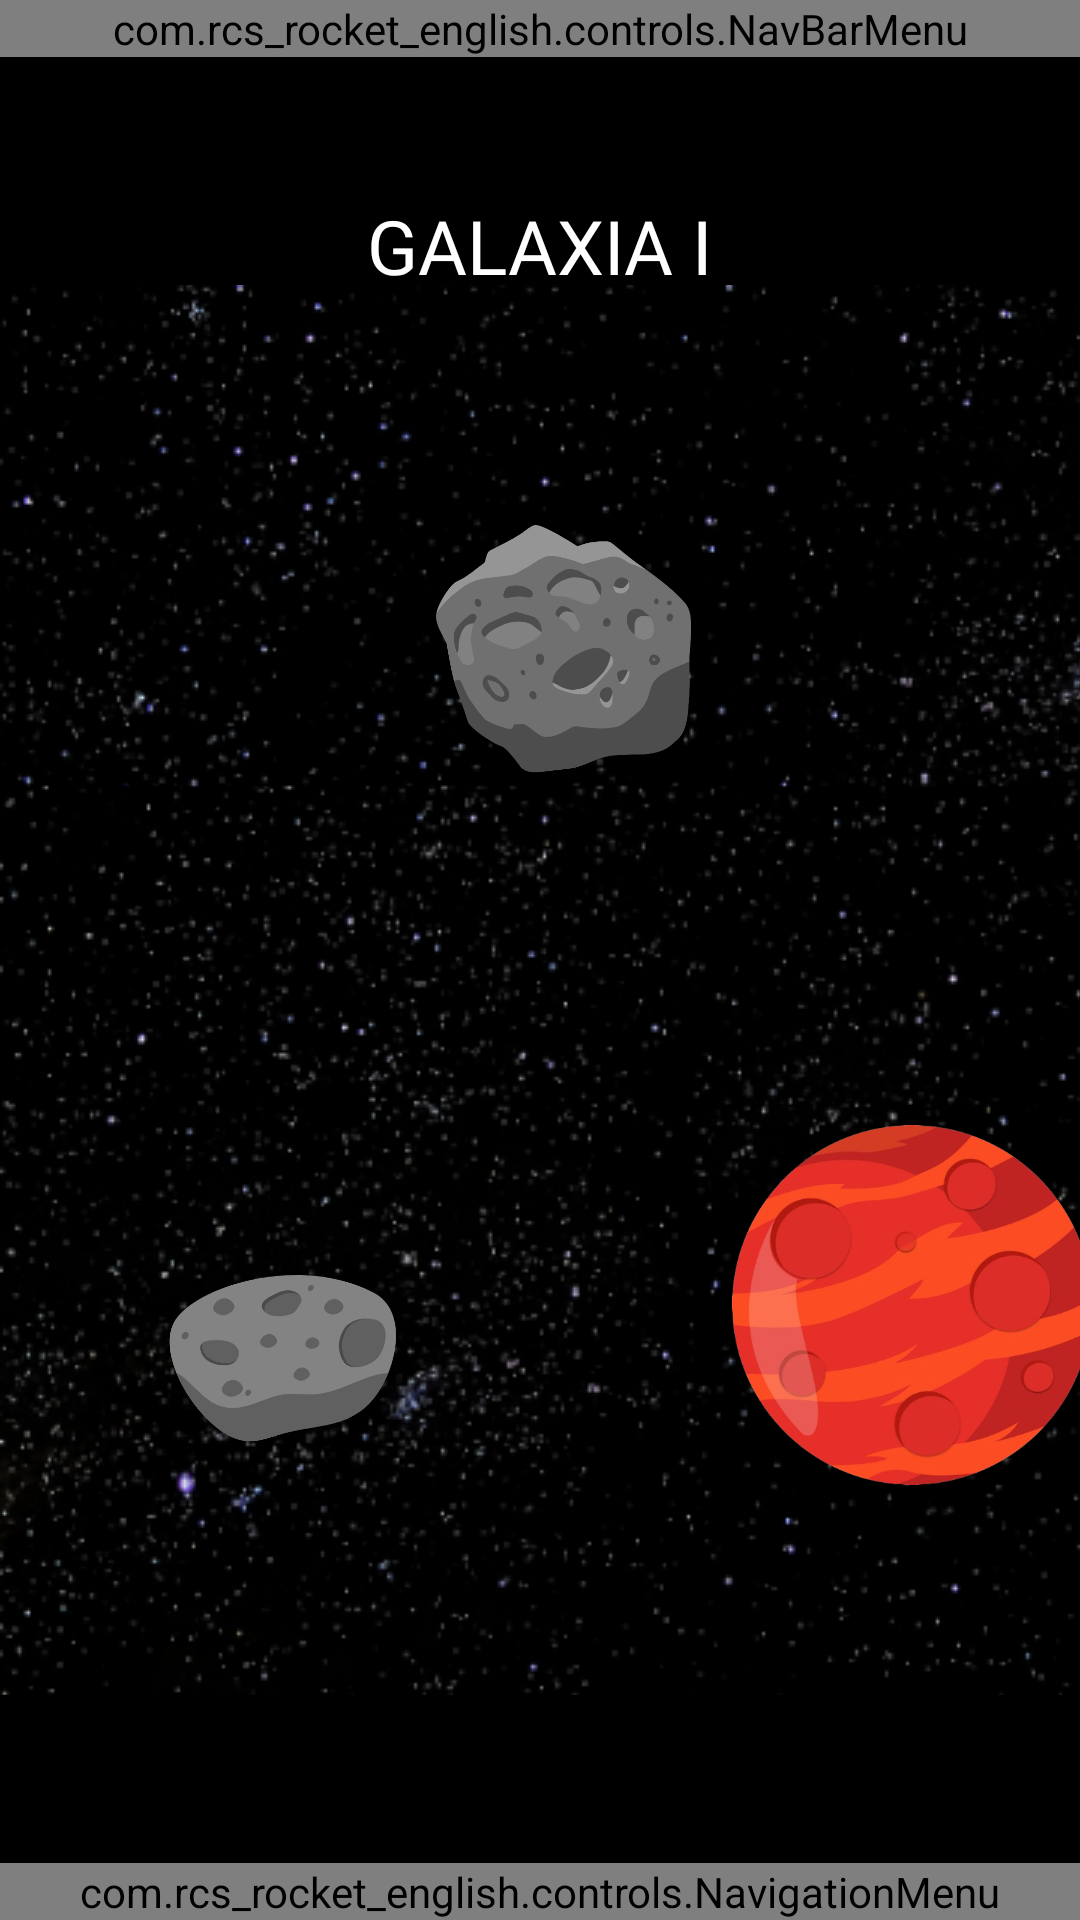

Icons on this 1080px x 1920px Android screen, each with the point to tap as (x=x, y=y):
ateroid one: (x=563, y=652)
ateroid two: (x=283, y=1348)
planet one: (x=906, y=1305)
